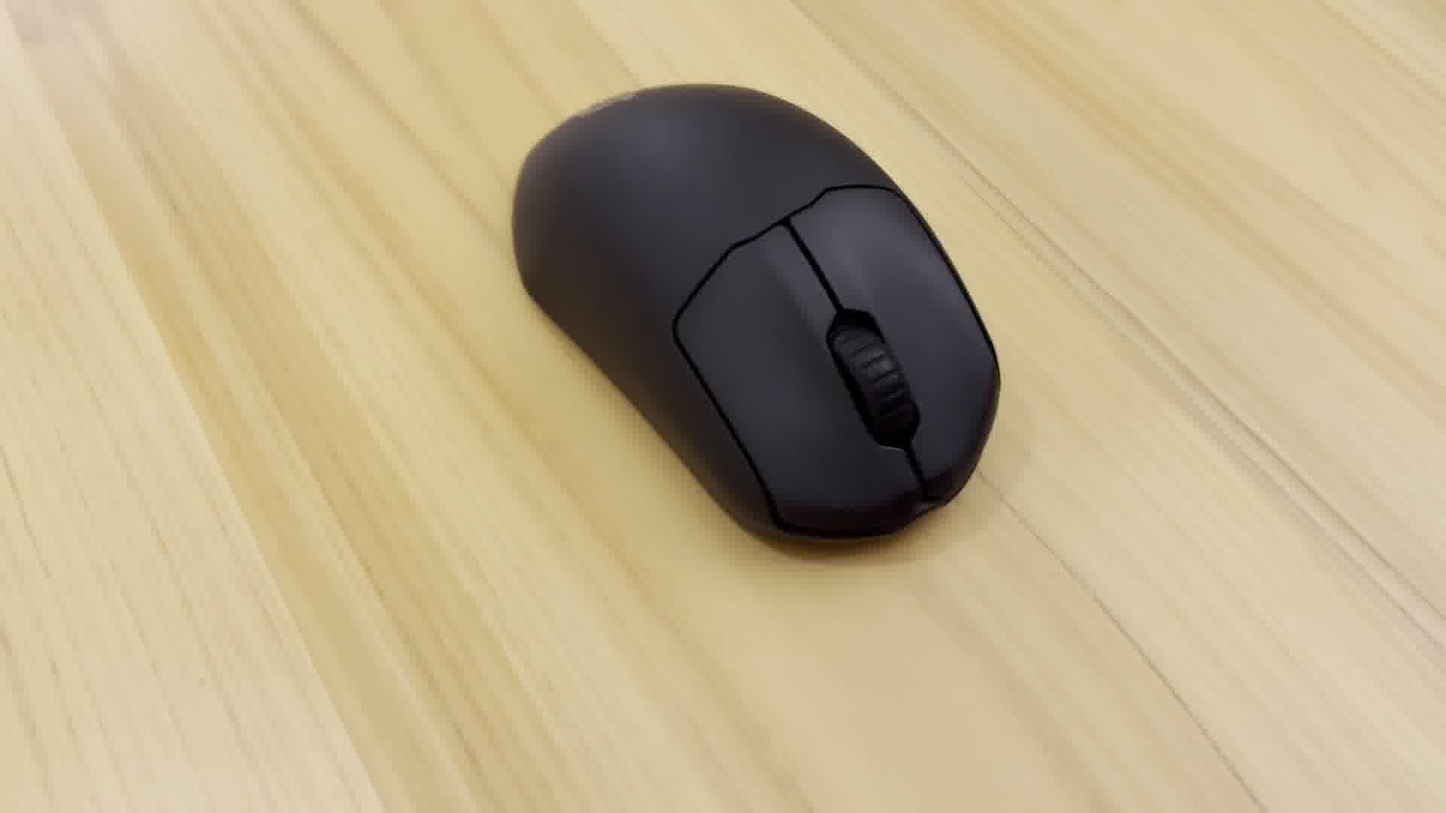steel-series: (499, 75, 1011, 564)
